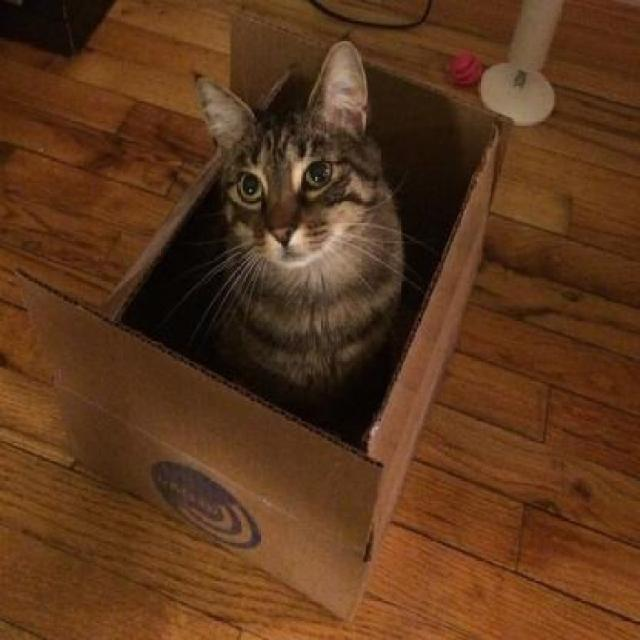box: (16, 12, 506, 626)
